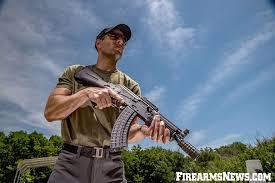larga: (73, 66, 202, 161)
